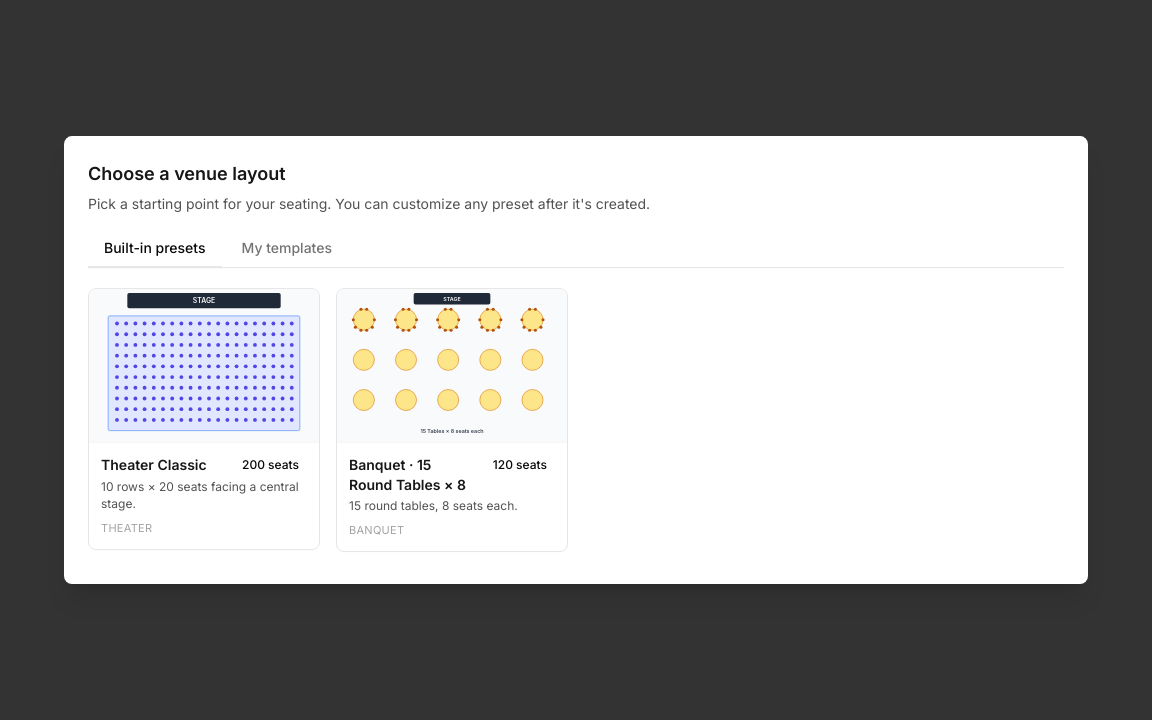
Test case: PresetLibraryModal — Mine tab (S8.10) › shows a loading state in the Mine tab while templates fetch
The width and height of the screenshot is (1152, 720).
Click the tab with test id "preset-modal-tab-mine": click(287, 249) [226,230,348,268]
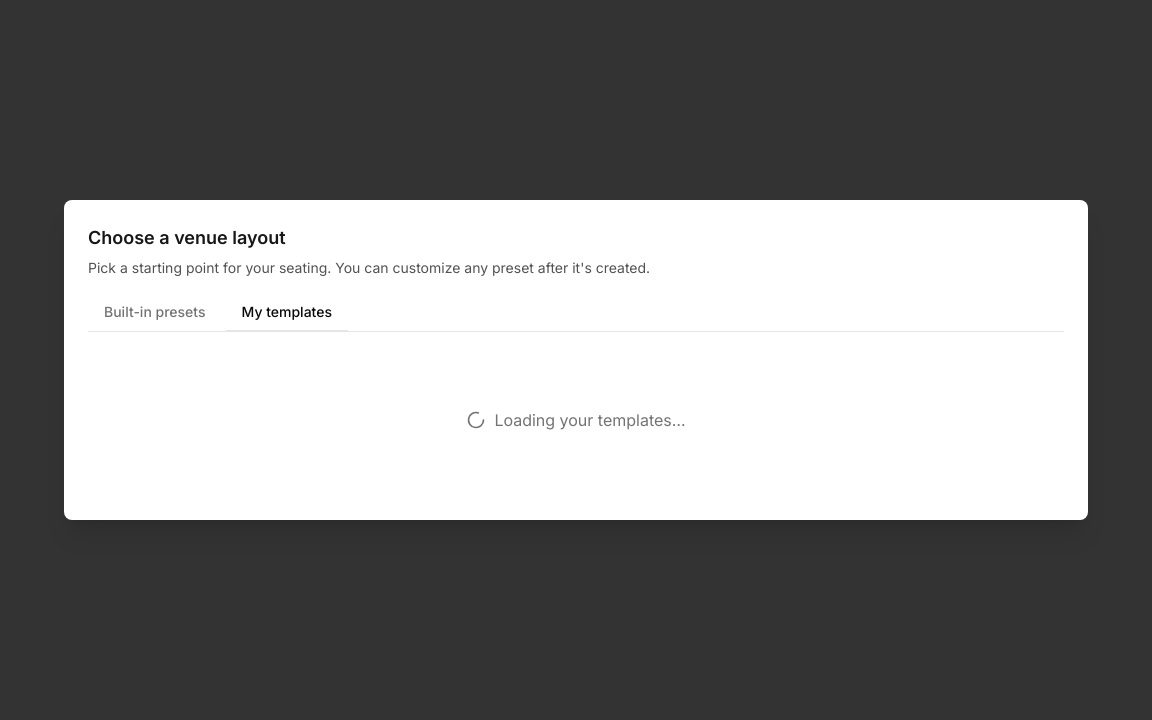
Result: the element with test id "mine-modal-loading" is shown at [466,410,686,430]
